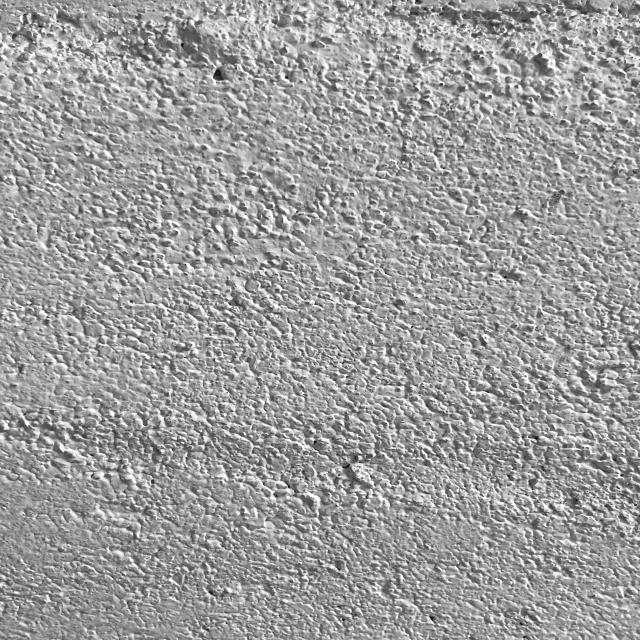rough and patchy surface: (5, 2, 640, 636)
